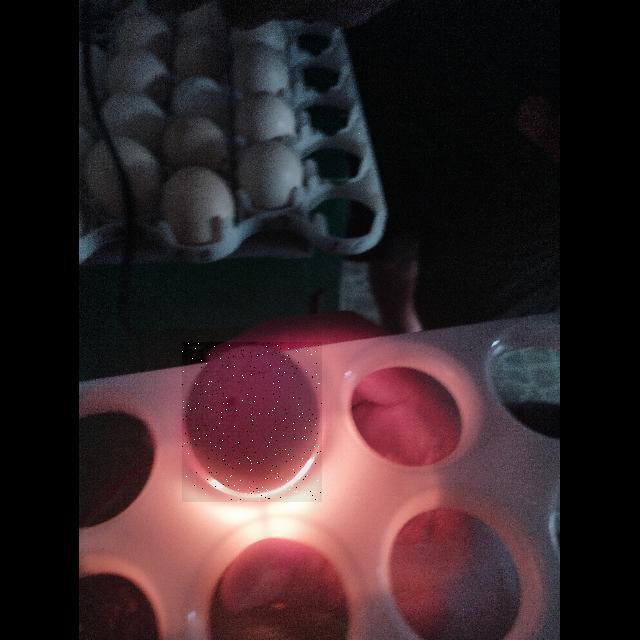Fertile: (182, 342, 322, 502)
